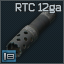Remington Tactical Choke 12ga: (0, 0, 64, 64)
